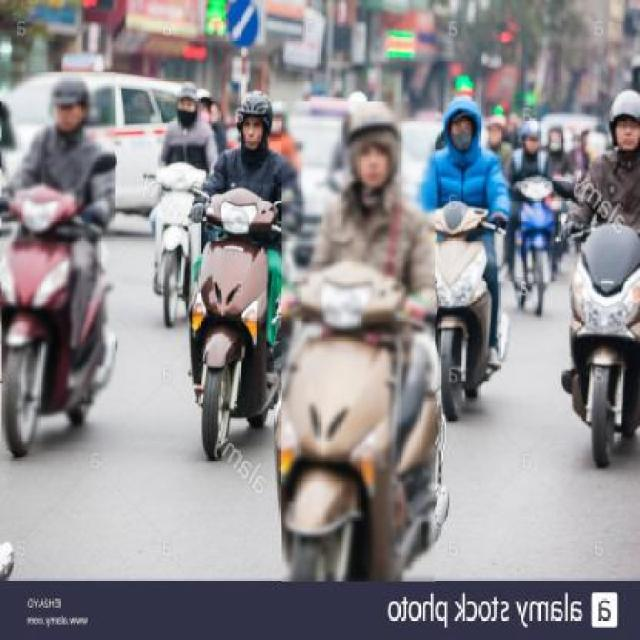helmet: (334, 78, 422, 218)
motorcycle: (231, 78, 480, 578)
